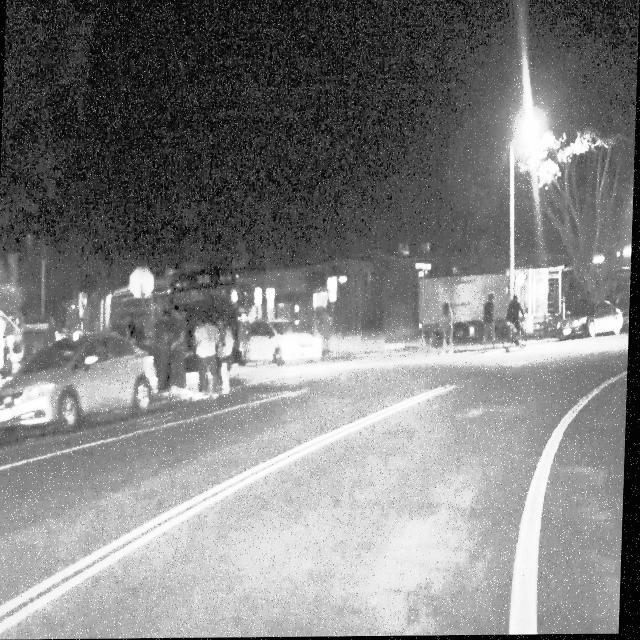Truck: (418, 274, 516, 348)
